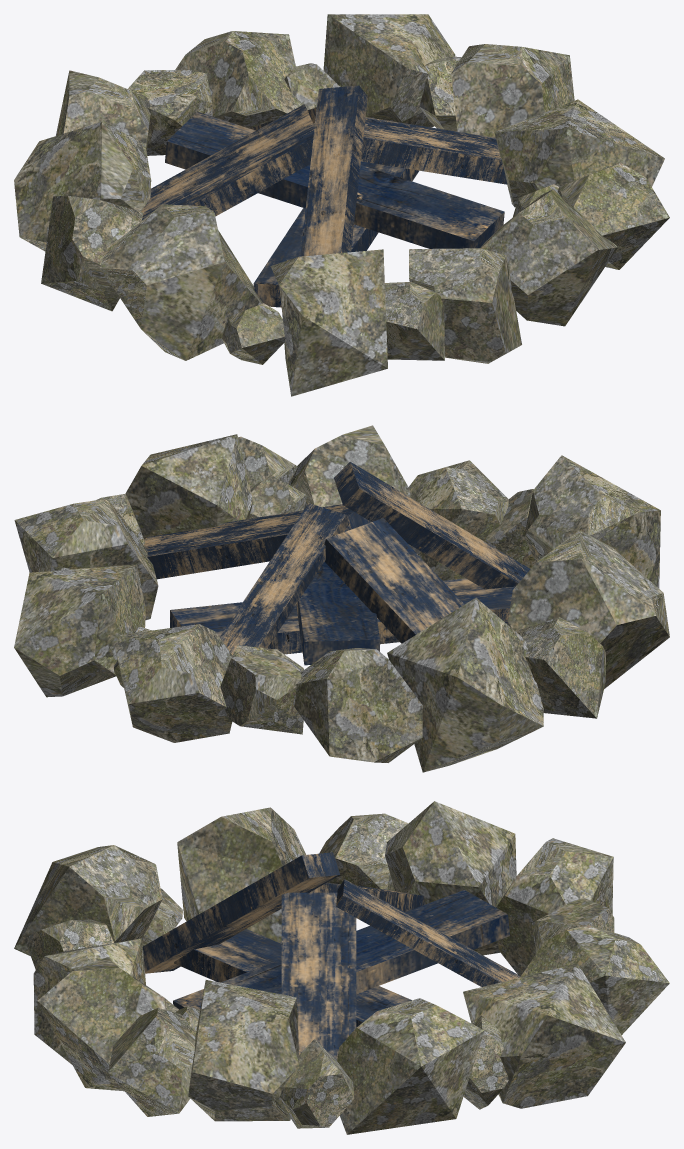
Rendered from campfire.glb.
The picture shows the model from 3 angles, top to bottom: view 1: azimuth 30°, elevation 25°; view 2: azimuth 150°, elevation 25°; view 3: azimuth 270°, elevation 25°; orthographic projection.
Parts seen in each view (by area): view 1: Icosphere.023; view 2: Icosphere.023; view 3: Icosphere.023.
Boxes of the visible parts, x1,y1,x2,y2 form: Icosphere.023: (14,14,669,396); Icosphere.023: (14,425,669,772); Icosphere.023: (14,801,669,1134).
Size of the model in its own units: 0.9093 by 0.3234 by 0.9387.
Materials: 2 (2 with a texture image).
